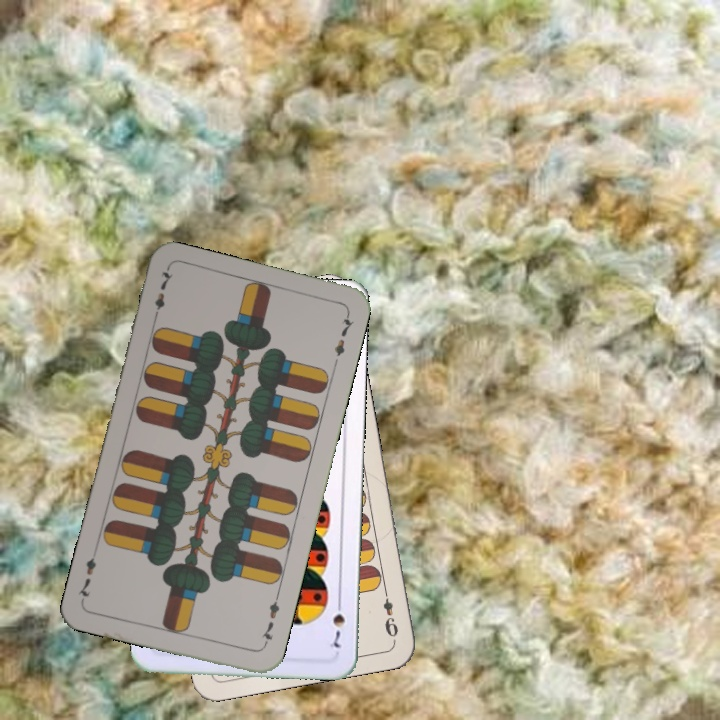E7: (149, 265, 176, 324), (257, 592, 282, 650)
E9: (379, 584, 401, 640)
S7: (326, 595, 347, 650)
